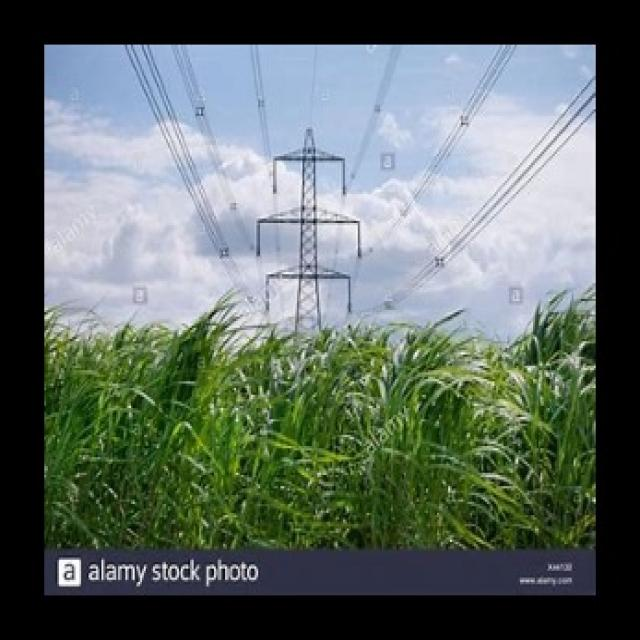utility poles: (259, 104, 362, 548)
